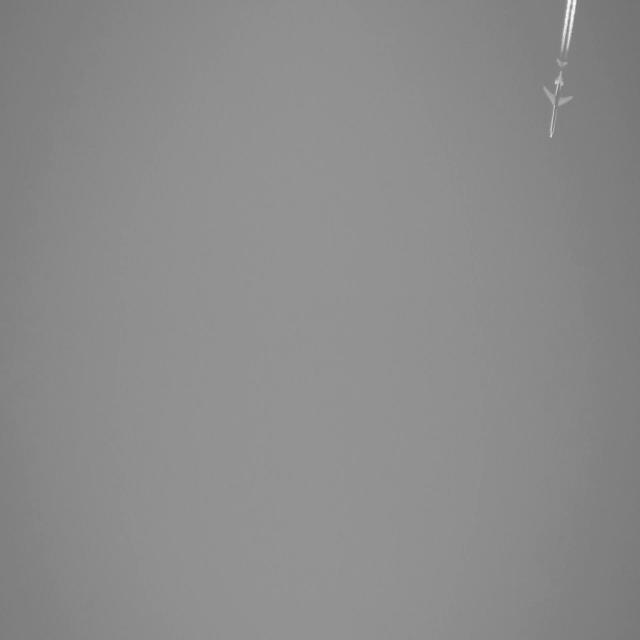aeroplane: (539, 51, 574, 146)
